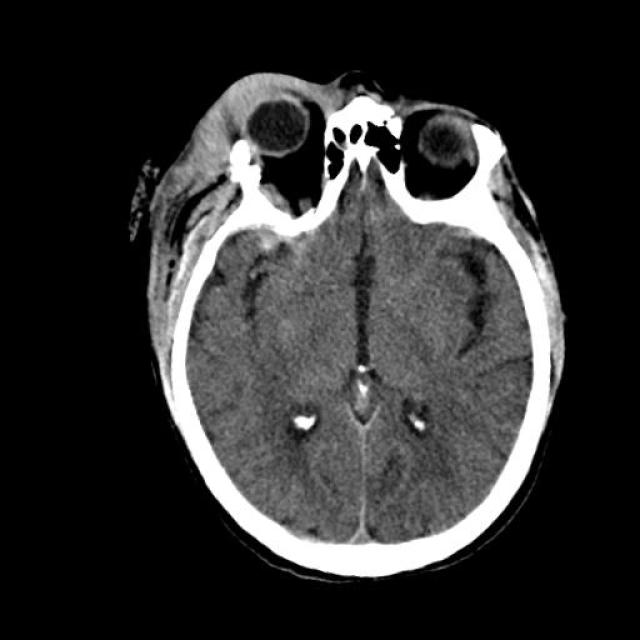Intraparenchymal: (244, 218, 336, 278)
Subdural: (302, 390, 424, 574)
